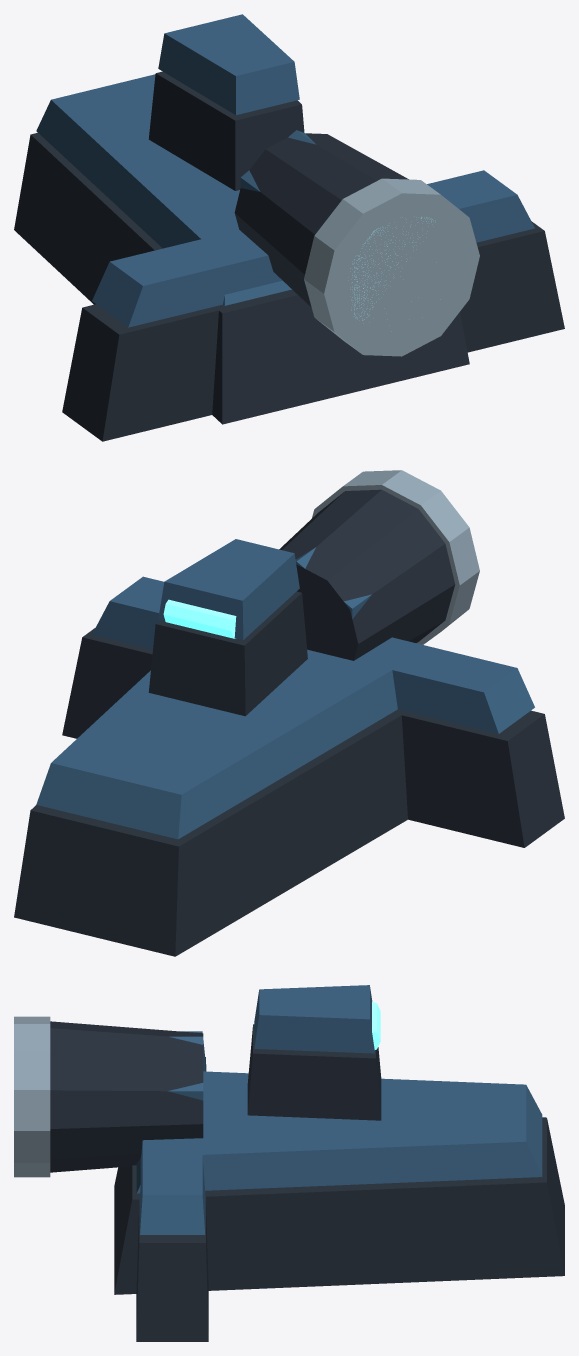
Rendered from c4_hiveDrone.glb.
3 renders of one model, top to bottom at view 1: azimuth 30°, elevation 25°; view 2: azimuth 150°, elevation 25°; view 3: azimuth 270°, elevation 25°, orthographic. The views are drawn at different scales.
Visible parts, largest first — view 1: hiveDrone / Chassis, hiveDrone / Armor, hiveDrone / Titanium; view 2: hiveDrone / Chassis, hiveDrone / Armor, hiveDrone / Titanium, hiveDrone / Energy; view 3: hiveDrone / Chassis, hiveDrone / Armor, hiveDrone / Titanium.
Part boxes in pixels (left/top/right/bottom): hiveDrone / Chassis: left=14, top=71, right=564, bottom=441; hiveDrone / Armor: left=36, top=14, right=534, bottom=327; hiveDrone / Titanium: left=304, top=178, right=479, bottom=356; hiveDrone / Chassis: left=14, top=489, right=564, bottom=956; hiveDrone / Armor: left=36, top=539, right=534, bottom=839; hiveDrone / Titanium: left=312, top=470, right=479, bottom=644; hiveDrone / Energy: left=163, top=599, right=236, bottom=638; hiveDrone / Chassis: left=50, top=1021, right=564, bottom=1341; hiveDrone / Armor: left=136, top=985, right=542, bottom=1234; hiveDrone / Titanium: left=14, top=1016, right=50, bottom=1177.
Bounding box in the file's own units: 0.86 × 0.473 × 0.99.
